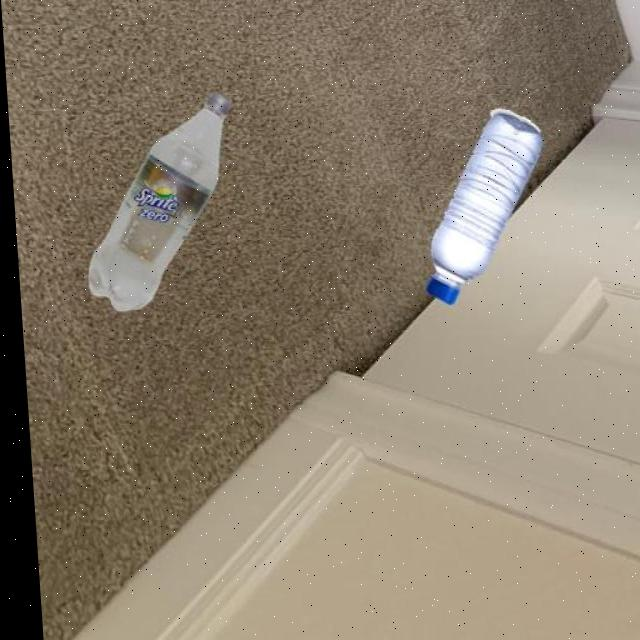bottle: (72, 90, 241, 312), (411, 106, 551, 305)
